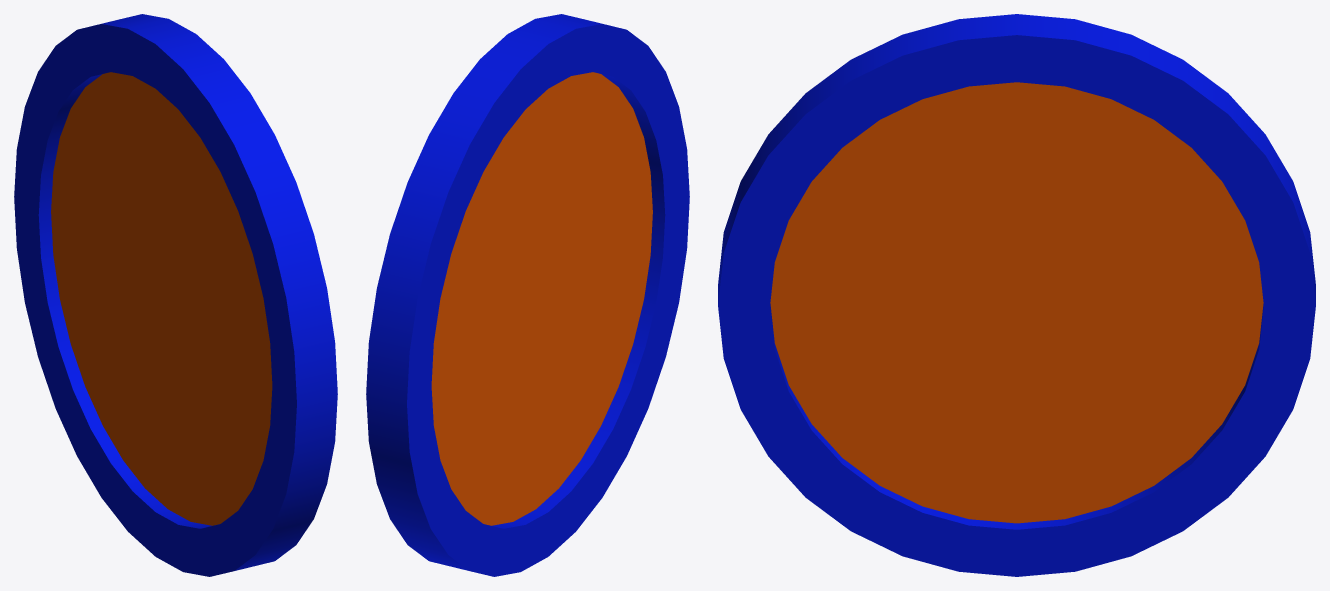
File: Coin.fbx
3 views of the same model, side by side, from view 1: azimuth 30°, elevation 25°; view 2: azimuth 150°, elevation 25°; view 3: azimuth 270°, elevation 25° (orthographic). The views are drawn at different scales.
Parts seen in each view (by area): view 1: Cylinder; view 2: Cylinder; view 3: Cylinder.
Boxes of the visible parts, x1=… form: Cylinder: x1=14, y1=14, x2=337, y2=576; Cylinder: x1=366, y1=14, x2=689, y2=576; Cylinder: x1=718, y1=14, x2=1315, y2=576.
Bounding box in the file's own units: 16.65 × 200 × 200.
